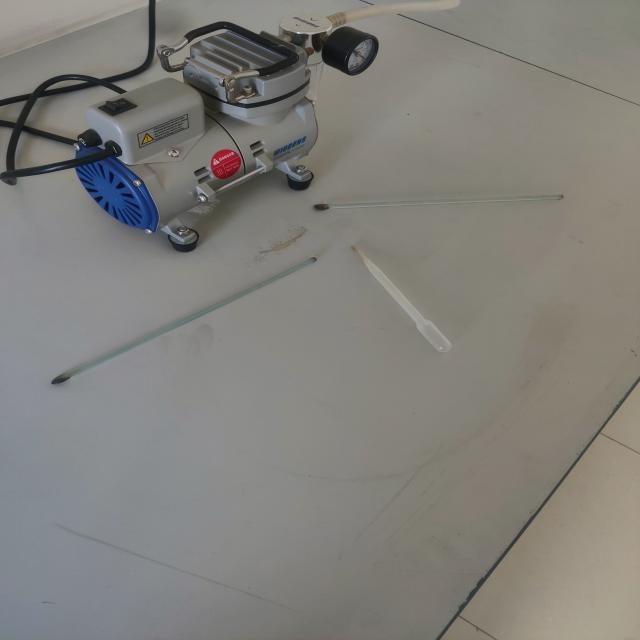Glass_Rod: (34, 248, 333, 394), (310, 181, 575, 225)
Pipette: (346, 234, 466, 361)
